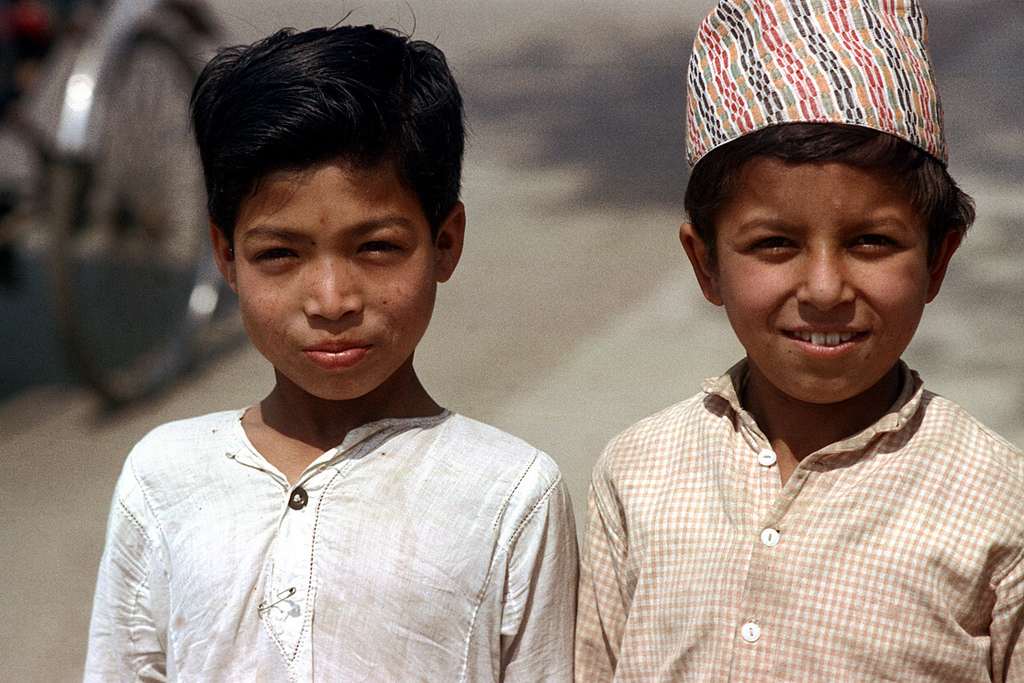human: (75, 16, 582, 683), (549, 2, 1024, 683)
